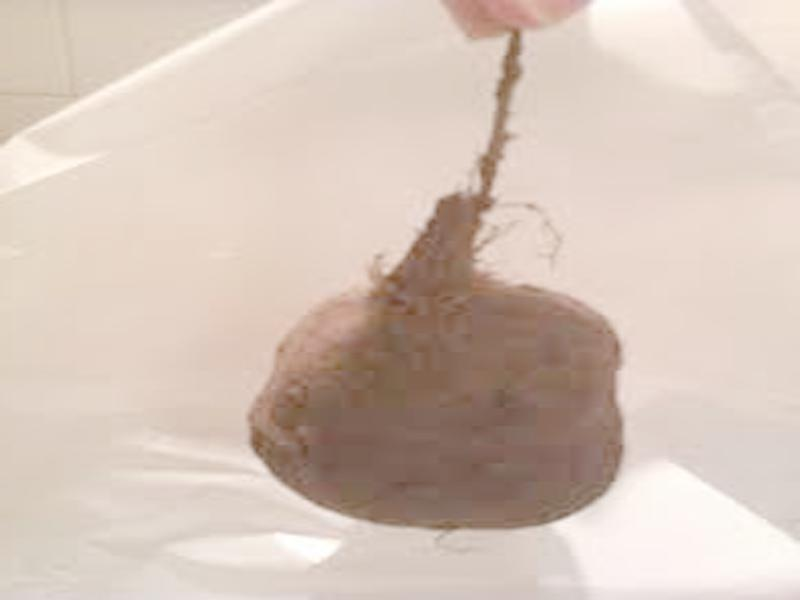Beet: (245, 23, 623, 531)
